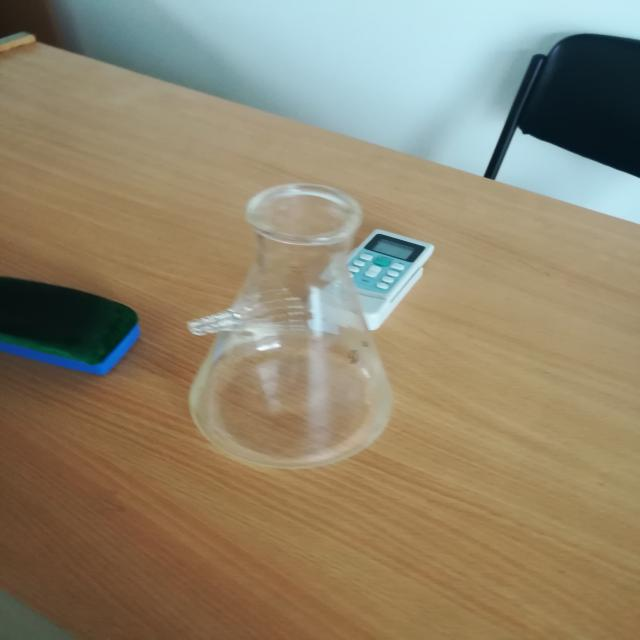Conical_Flask: (162, 141, 436, 493)
